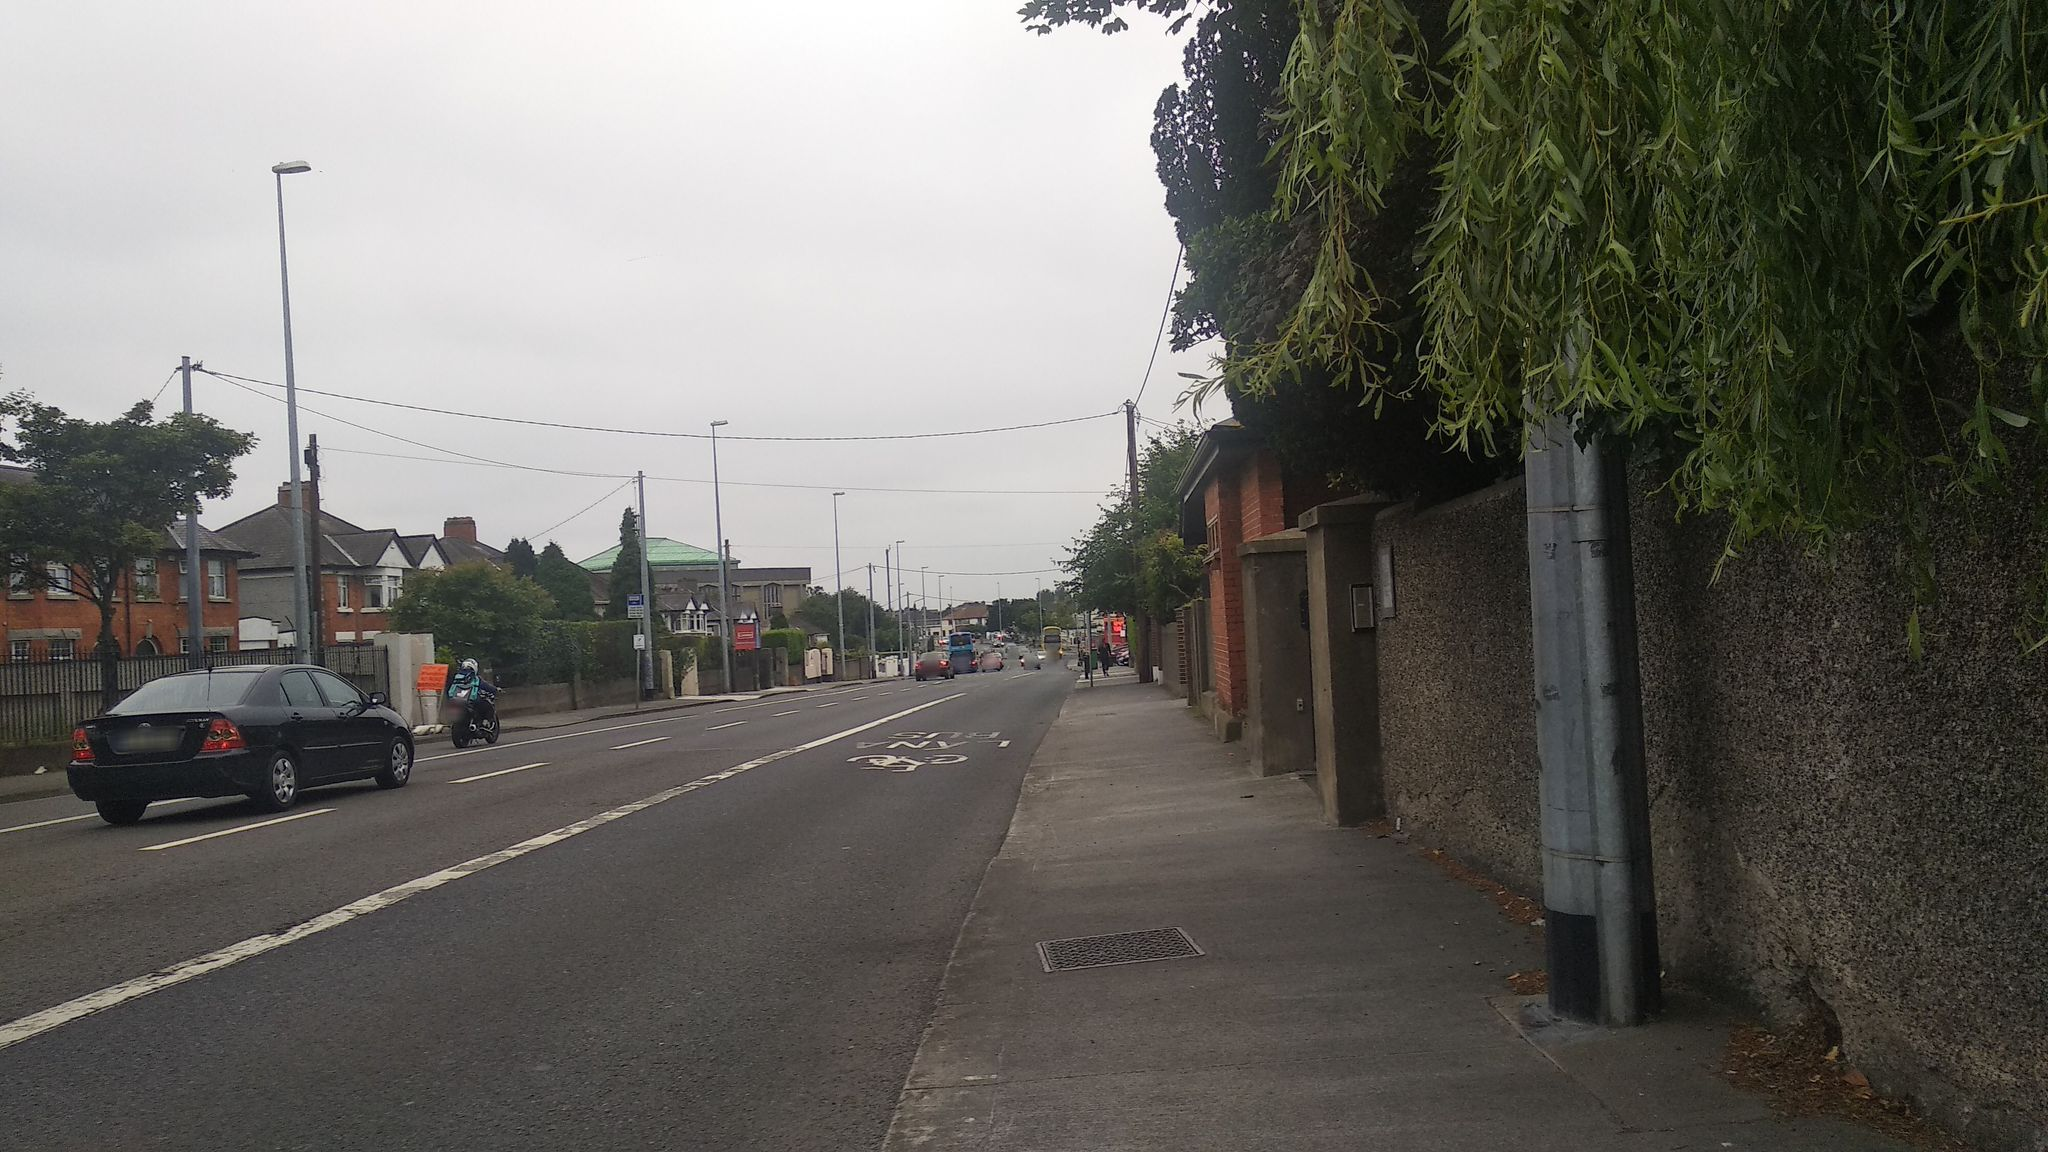property sign: (724, 606, 765, 653)
